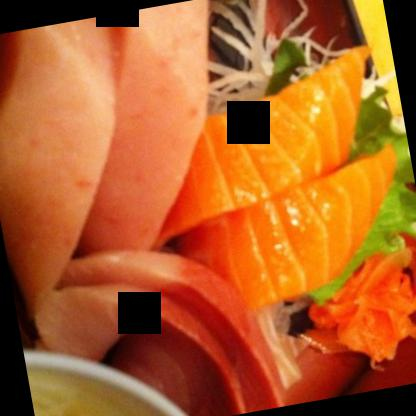salmon: (139, 38, 415, 322)
